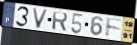3: (14, 6, 32, 28)
5: (71, 13, 84, 35)
6: (89, 16, 104, 37)
F: (105, 17, 123, 39)
R: (51, 10, 69, 32)
V: (32, 7, 50, 29)
